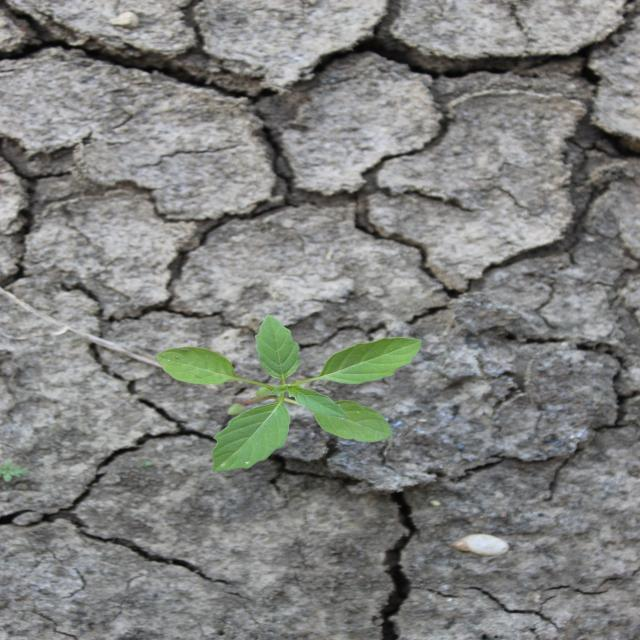CutleafGroundcherry: (149, 311, 427, 475)
